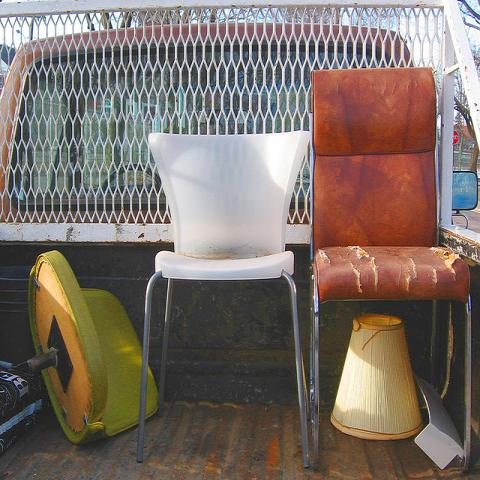truck: (0, 0, 479, 473)
